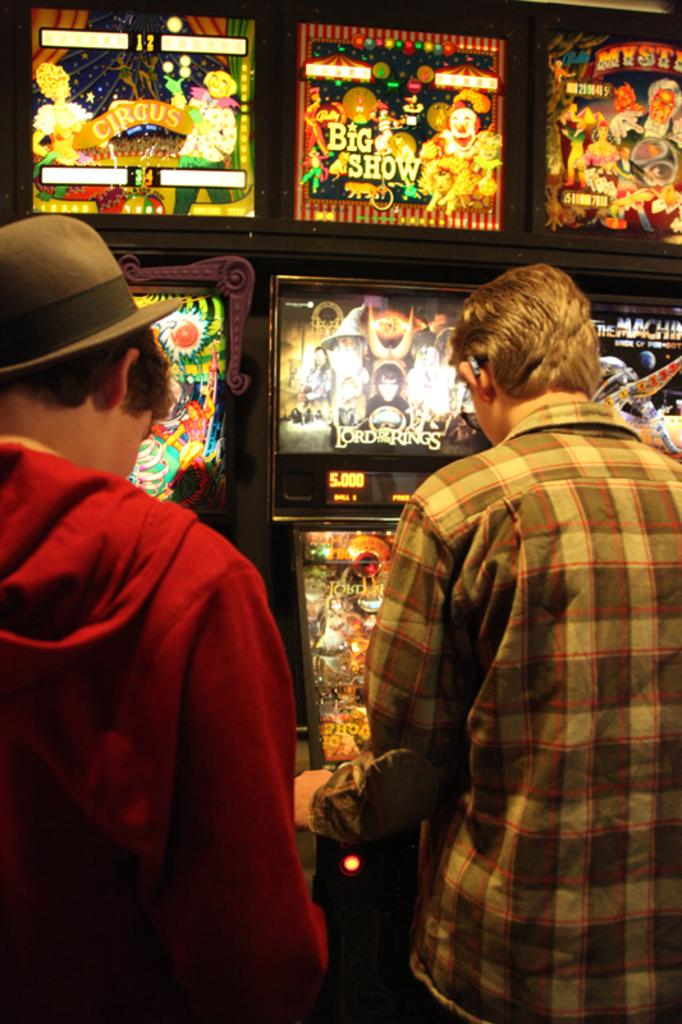Hat: (0, 212, 179, 375)
